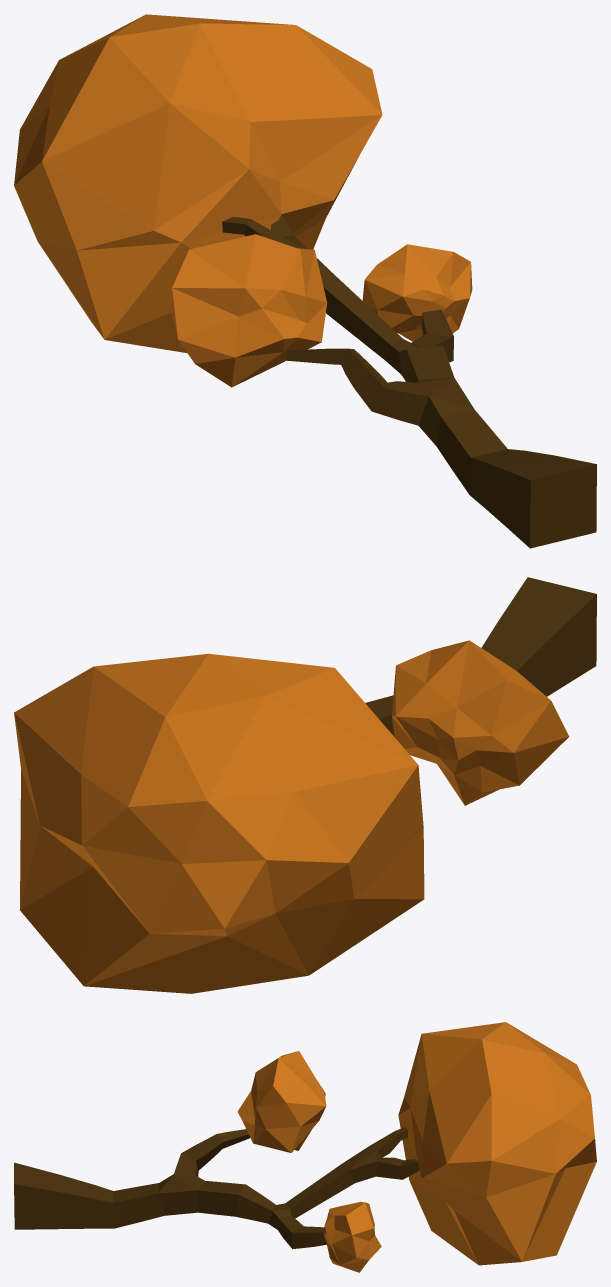
The model's file is Terrain_tree7.fbx.
3 views of the same model, one above another, from view 1: azimuth 30°, elevation 25°; view 2: azimuth 150°, elevation 25°; view 3: azimuth 270°, elevation 25° (orthographic). The views are drawn at different scales.
Parts seen in each view (by area): view 1: Icosphere.002; view 2: Icosphere.002; view 3: Icosphere.002.
Boxes of the visible parts, x1,y1,x2,y2 form: Icosphere.002: (14, 14, 596, 548); Icosphere.002: (14, 577, 596, 993); Icosphere.002: (14, 1022, 596, 1272).
Size of the model in its own units: 19678 by 15661 by 41061.
